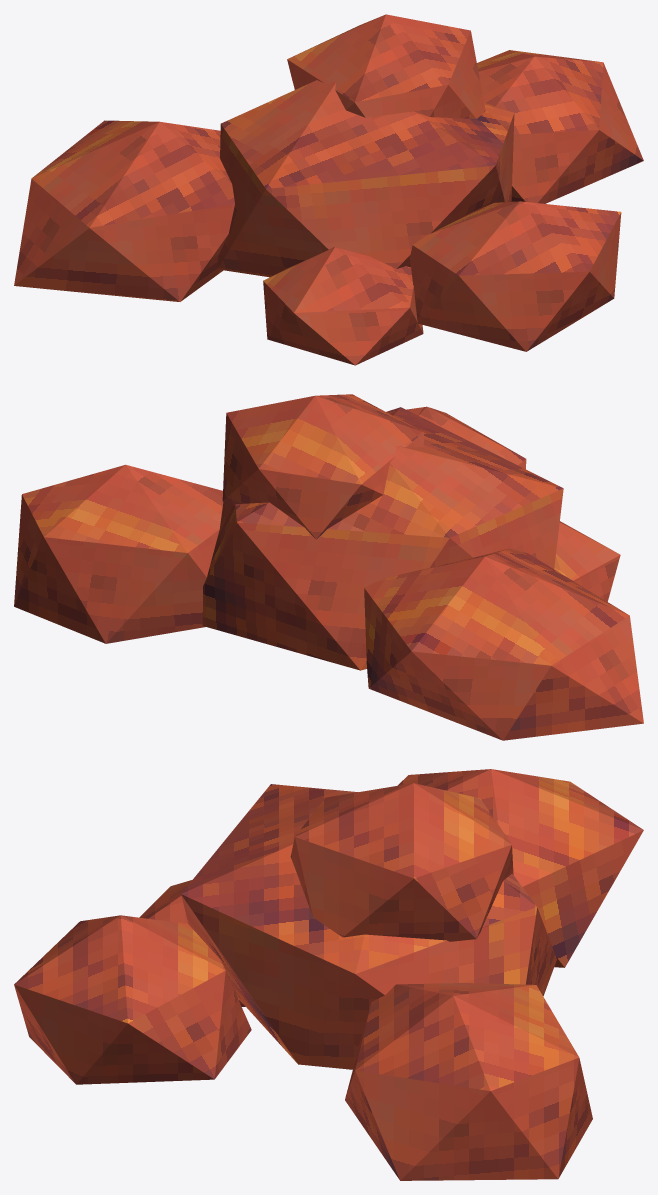
File: desert_rockpile.glb
3 views of the same model, one above another, from view 1: azimuth 30°, elevation 25°; view 2: azimuth 150°, elevation 25°; view 3: azimuth 270°, elevation 25° (orthographic). The views are drawn at different scales.
Parts seen in each view (by area): view 1: RockPile; view 2: RockPile; view 3: RockPile.
Boxes of the visible parts, x1=… form: RockPile: x1=14, y1=14, x2=643, y2=365; RockPile: x1=14, y1=394, x2=643, y2=740; RockPile: x1=14, y1=769, x2=643, y2=1180.
Bounding box in the file's own units: 1.74 × 0.6199 × 1.31.
Materials: 1 (1 with a texture image).
